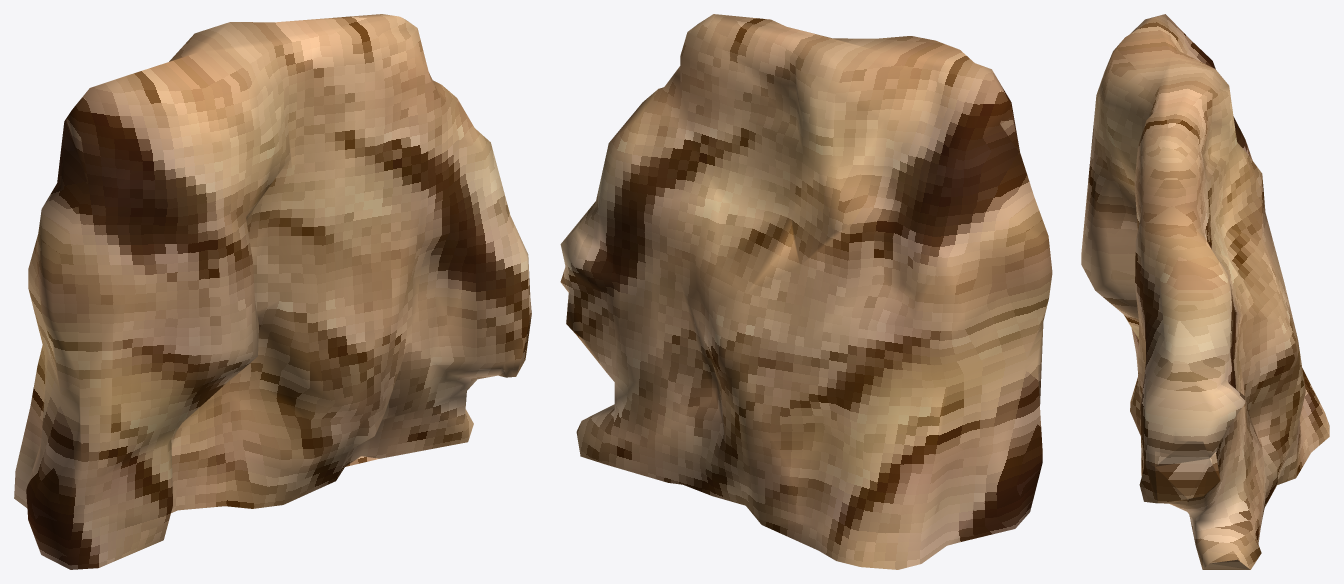
The model's file is oukoseki.FBX.
The picture shows the model from 3 angles, left to right: view 1: azimuth 30°, elevation 25°; view 2: azimuth 150°, elevation 25°; view 3: azimuth 270°, elevation 25°; orthographic projection. The views are drawn at different scales.
Parts seen in each view (by area): view 1: Polygonal_Model_1_Triangles__null_; view 2: Polygonal_Model_1_Triangles__null_; view 3: Polygonal_Model_1_Triangles__null_.
Boxes of the visible parts, x1,y1,x2,y2 form: Polygonal_Model_1_Triangles__null_: [14, 14, 531, 569]; Polygonal_Model_1_Triangles__null_: [560, 14, 1052, 569]; Polygonal_Model_1_Triangles__null_: [1081, 14, 1329, 569].
Bounding box in the file's own units: 76.26 × 39.55 × 70.83.
